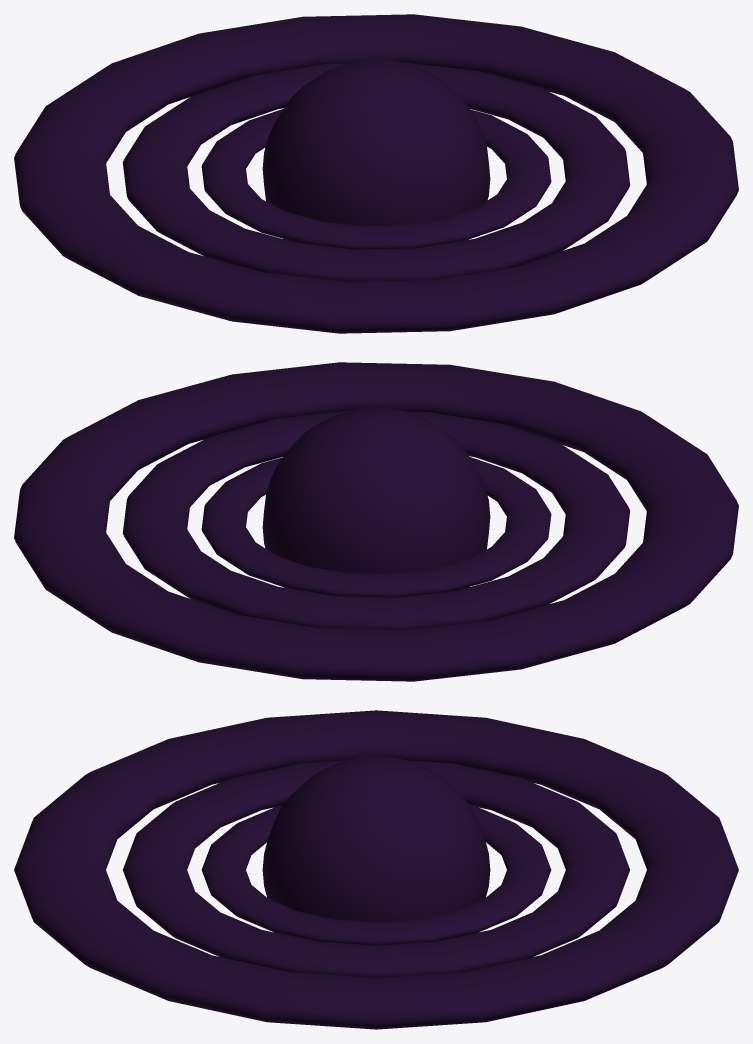
Rendered from trou_noir_export.fbx.
3 views of the same model, one above another, from view 1: azimuth 30°, elevation 25°; view 2: azimuth 150°, elevation 25°; view 3: azimuth 270°, elevation 25° (orthographic).
Parts seen in each view (by area): view 1: pTorus3, pTorus2, pSphere1, pTorus1; view 2: pTorus3, pTorus2, pSphere1, pTorus1; view 3: pTorus3, pTorus2, pSphere1, pTorus1.
Part boxes in pixels (x1,y1,x2,y2): pTorus3: [14, 14, 738, 333]; pTorus2: [123, 62, 629, 281]; pSphere1: [262, 59, 490, 242]; pTorus1: [201, 109, 551, 249]; pTorus3: [14, 362, 738, 681]; pTorus2: [123, 410, 629, 629]; pSphere1: [262, 407, 490, 590]; pTorus1: [201, 457, 551, 597]; pTorus3: [14, 710, 738, 1029]; pTorus2: [123, 760, 629, 977]; pSphere1: [262, 756, 490, 921]; pTorus1: [201, 805, 551, 945].
Size of the model in its own units: 6.37 by 2 by 6.37.
